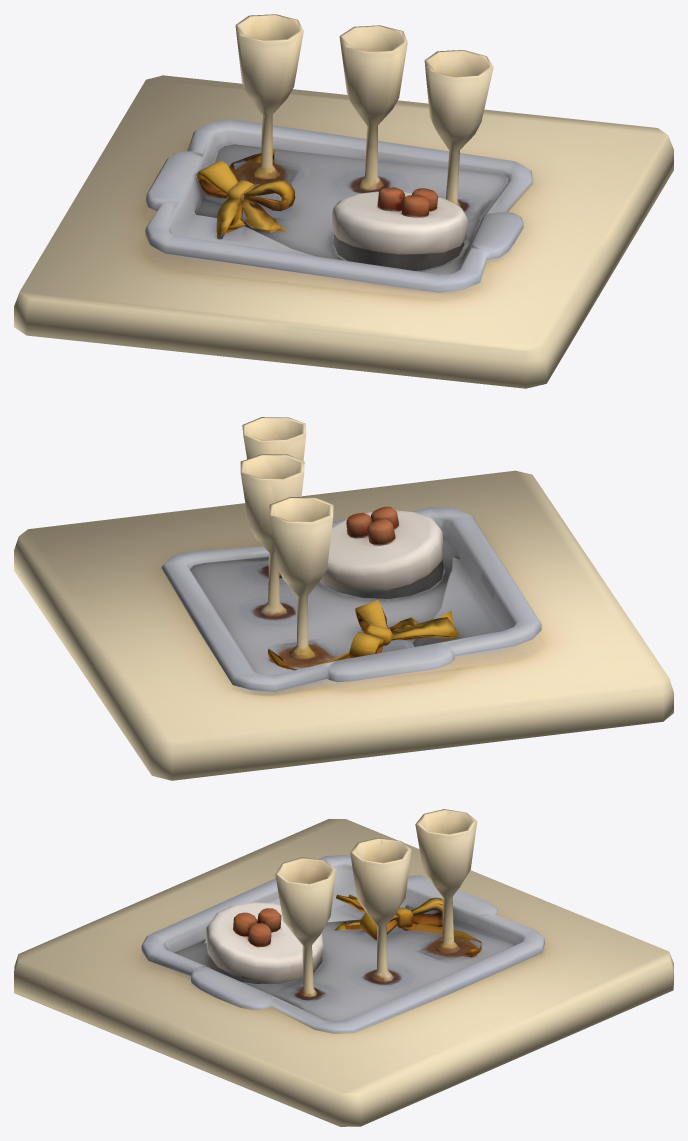
3 renders of one model, top to bottom at view 1: azimuth 30°, elevation 25°; view 2: azimuth 150°, elevation 25°; view 3: azimuth 270°, elevation 25°, orthographic. The views are drawn at different scales.
Parts seen in each view (by area): view 1: tripo_node_06aca3ef-7444-47e6-ab22-9b65e1558368; view 2: tripo_node_06aca3ef-7444-47e6-ab22-9b65e1558368; view 3: tripo_node_06aca3ef-7444-47e6-ab22-9b65e1558368.
Part boxes in pixels (bbox=[...]): tripo_node_06aca3ef-7444-47e6-ab22-9b65e1558368: bbox=[14, 14, 673, 388]; tripo_node_06aca3ef-7444-47e6-ab22-9b65e1558368: bbox=[14, 417, 673, 780]; tripo_node_06aca3ef-7444-47e6-ab22-9b65e1558368: bbox=[14, 809, 673, 1126].
Size of the model in its own units: 1.36 by 0.3613 by 1.36.
1 material, 1 textured.
